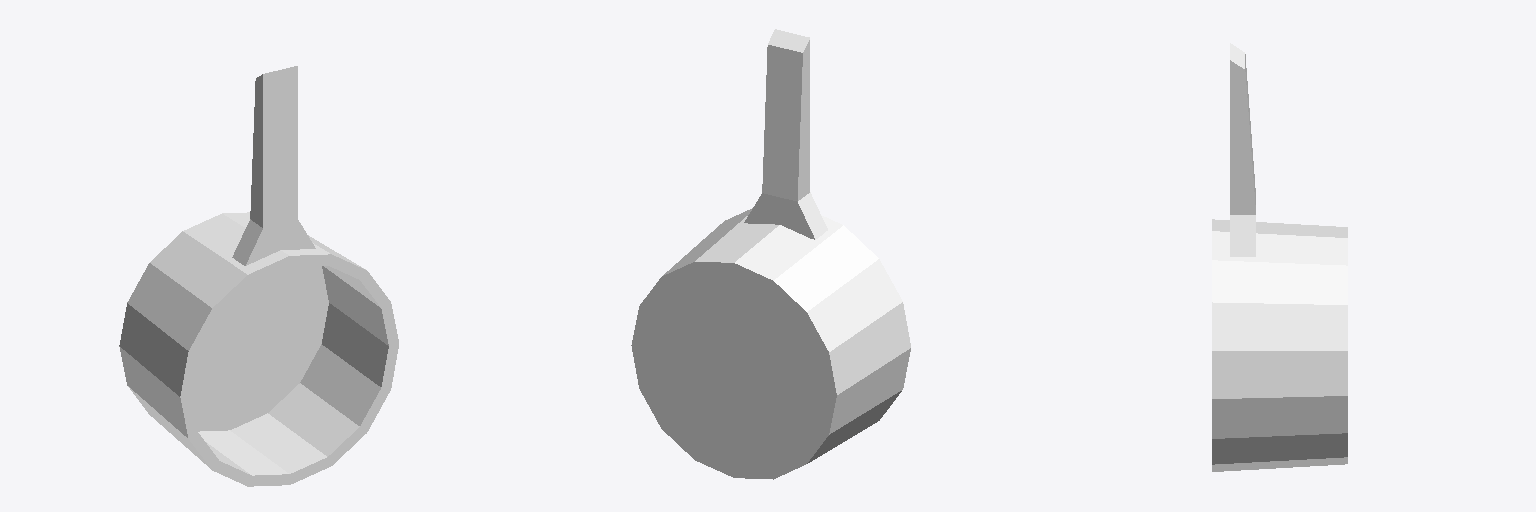
Rendered from Pot.obj.
3 renders of one model, left to right at view 1: azimuth 30°, elevation 25°; view 2: azimuth 150°, elevation 25°; view 3: azimuth 270°, elevation 25°, orthographic.
Parts seen in each view (by area): view 1: Cylinder1; view 2: Cylinder1; view 3: Cylinder1.
Boxes of the visible parts, x1=… form: Cylinder1: x1=119, y1=66, x2=398, y2=486; Cylinder1: x1=631, y1=29, x2=910, y2=479; Cylinder1: x1=1212, y1=43, x2=1347, y2=471.
Size of the model in its own units: 2 by 3.57 by 1.07.